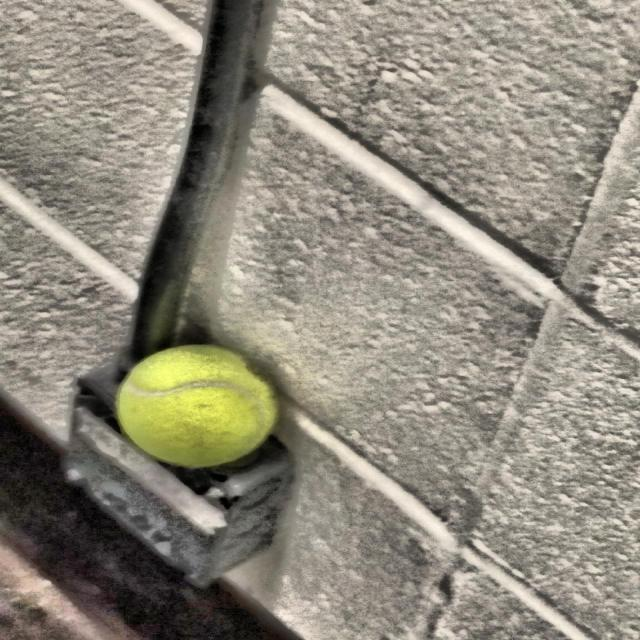tennis-ball: (119, 342, 285, 474)
